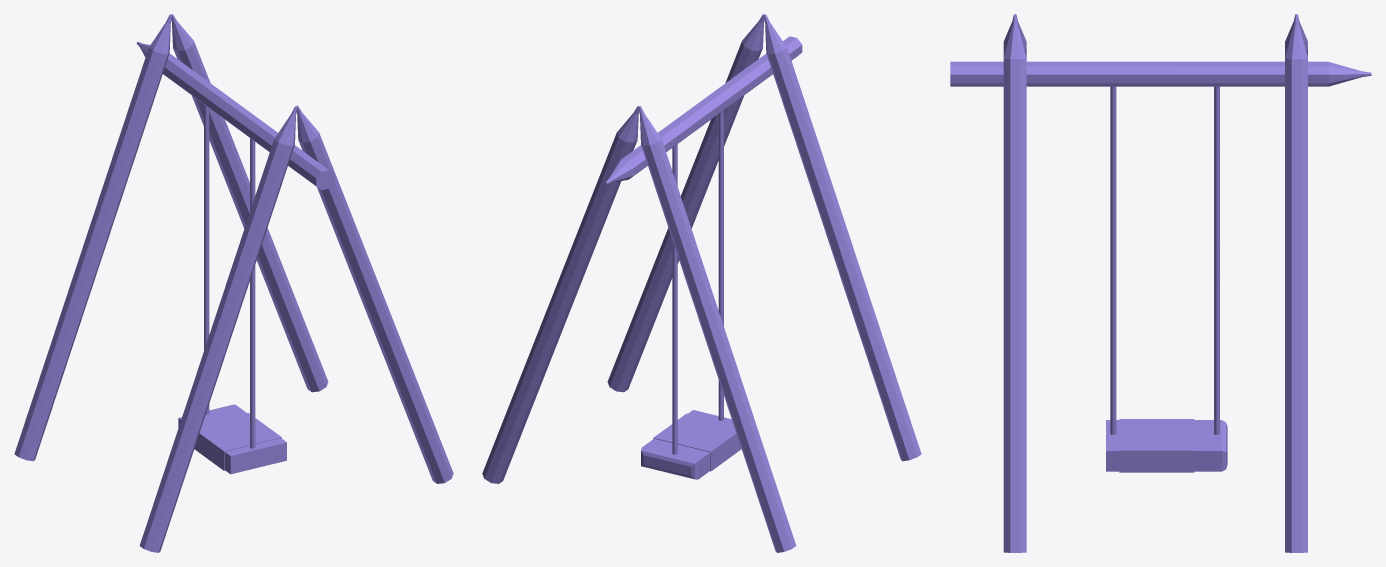
Rendered from Swing.fbx.
The picture shows the model from 3 angles, left to right: view 1: azimuth 30°, elevation 25°; view 2: azimuth 150°, elevation 25°; view 3: azimuth 270°, elevation 25°; orthographic projection. The views are drawn at different scales.
Parts seen in each view (by area): view 1: Cube.005, Cube.003, Cube.004; view 2: Cube.005, Cube.003, Cube.004; view 3: Cube.005, Cube.003, Cube.004.
Part boxes in pixels (<box>): Cube.005: <box>14,14,453,552</box>; Cube.003: <box>178,404,286,474</box>; Cube.004: <box>204,104,255,448</box>; Cube.005: <box>482,14,921,552</box>; Cube.003: <box>641,410,741,479</box>; Cube.004: <box>672,110,723,454</box>; Cube.005: <box>950,14,1371,552</box>; Cube.003: <box>1106,419,1227,472</box>; Cube.004: <box>1110,86,1219,434</box>.
Bounding box in the file's own units: 28.8 × 36.41 × 30.18.
